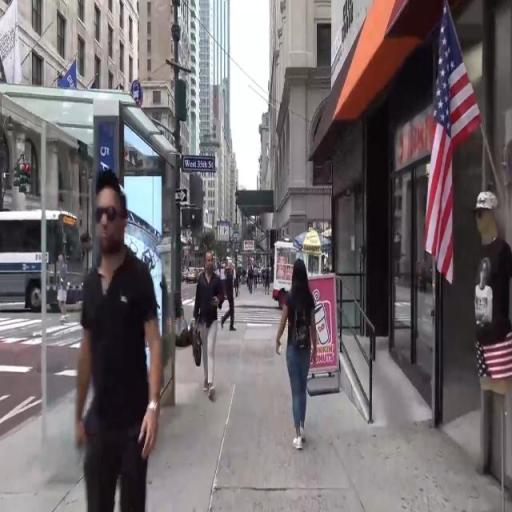person: (76, 171, 163, 512), (277, 260, 319, 451), (195, 251, 225, 402), (222, 263, 237, 332), (58, 252, 68, 323)
